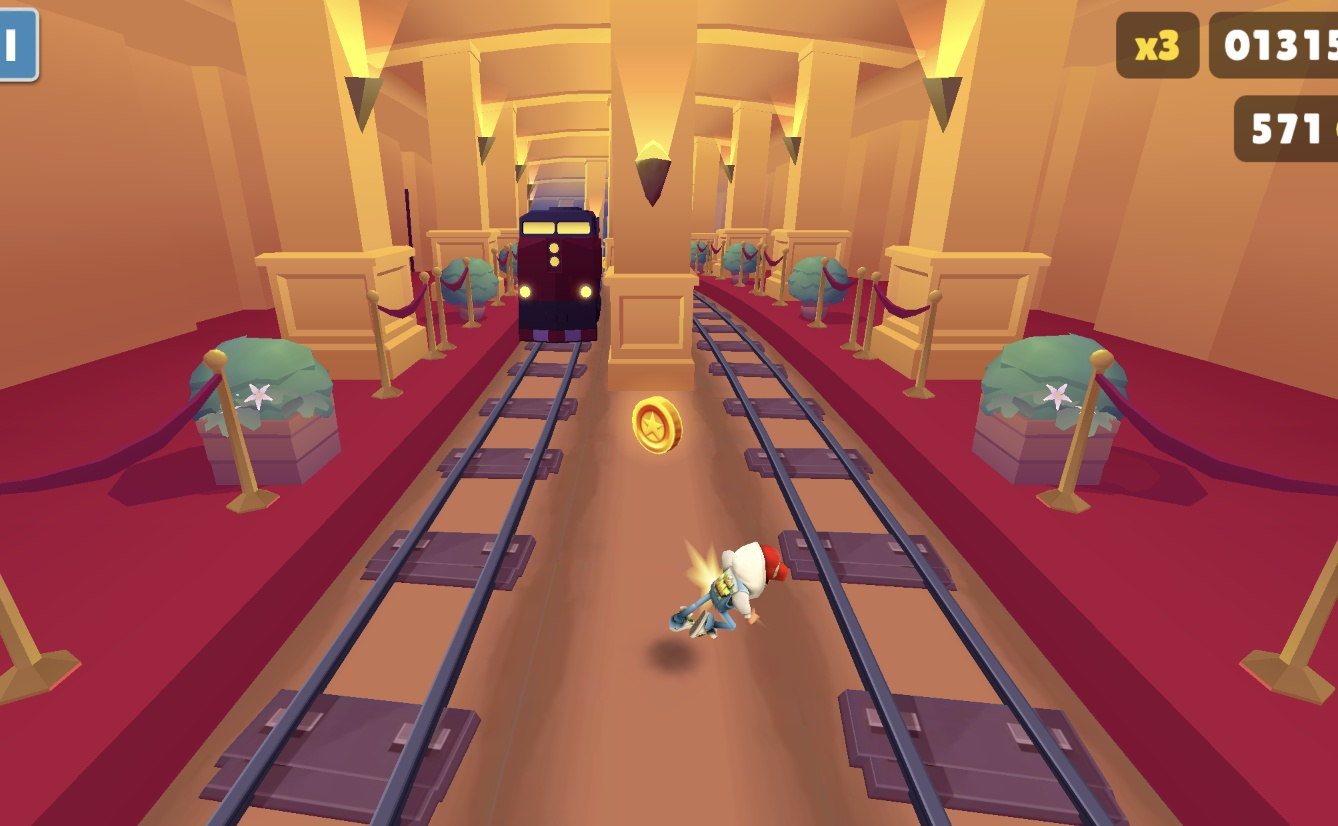pillar: (604, 0, 699, 399)
train: (517, 205, 609, 344)
